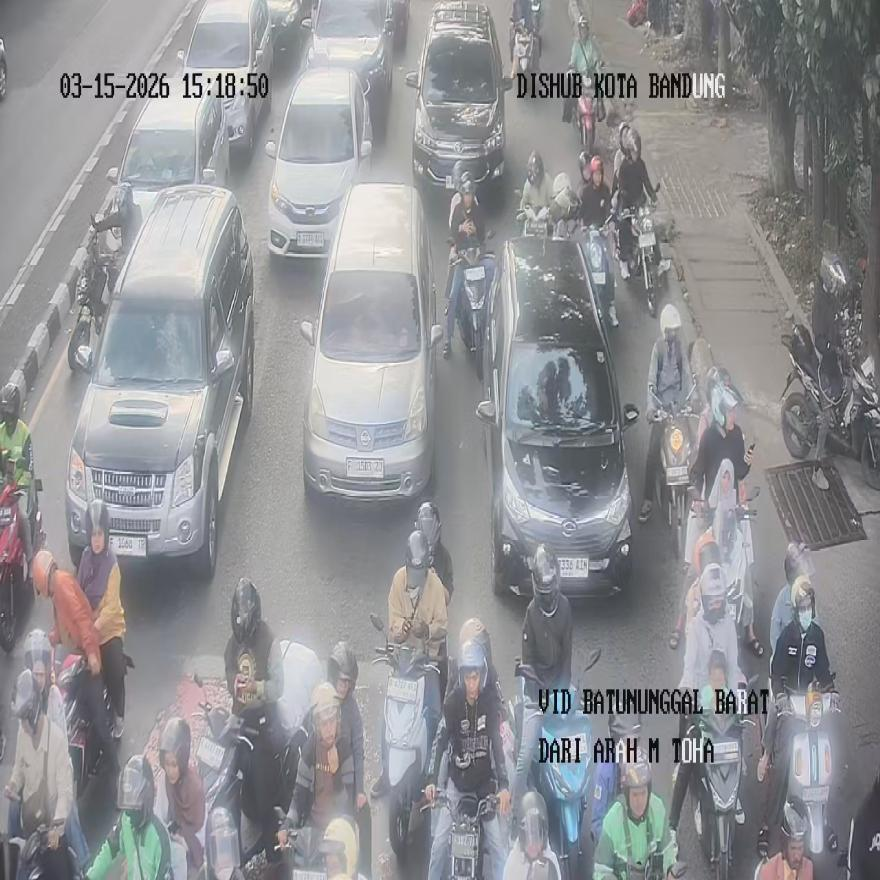Motor: (65, 185, 255, 578), (476, 237, 639, 598), (300, 182, 444, 501), (406, 0, 513, 200), (265, 66, 373, 259), (177, 0, 273, 156), (107, 98, 230, 216), (302, 0, 392, 130), (267, 0, 310, 54)
Truk: (197, 578, 310, 860), (32, 503, 130, 793), (514, 544, 594, 879), (669, 561, 752, 879), (758, 544, 839, 852), (373, 528, 448, 860), (780, 251, 879, 490), (276, 642, 365, 879), (424, 638, 510, 879), (87, 716, 205, 879), (4, 669, 74, 879), (638, 303, 695, 552), (0, 379, 50, 658), (68, 182, 142, 369), (612, 125, 670, 315), (594, 748, 676, 879), (446, 172, 495, 379), (578, 154, 617, 326), (570, 15, 600, 156), (516, 152, 551, 233), (511, 0, 540, 72)
